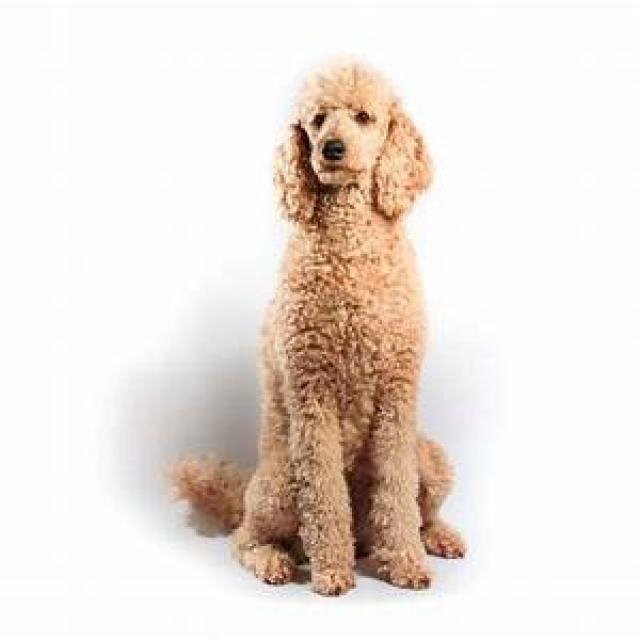dog: (175, 38, 463, 599)
